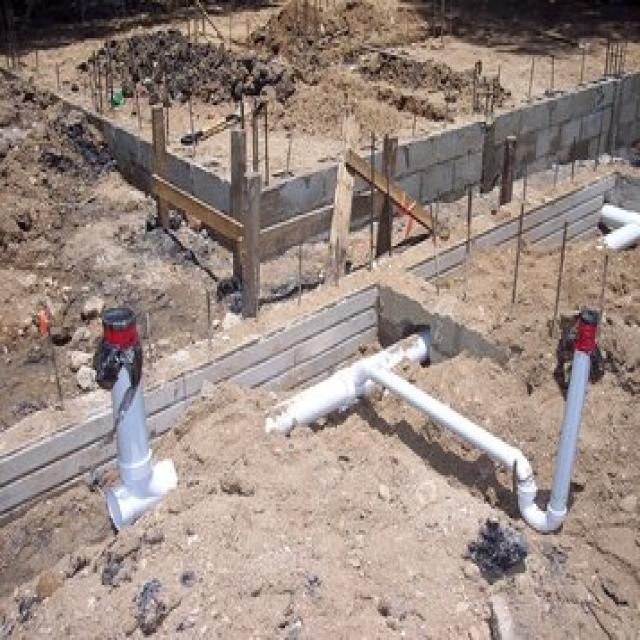Plumbing and Electrical: (52, 310, 628, 588)
